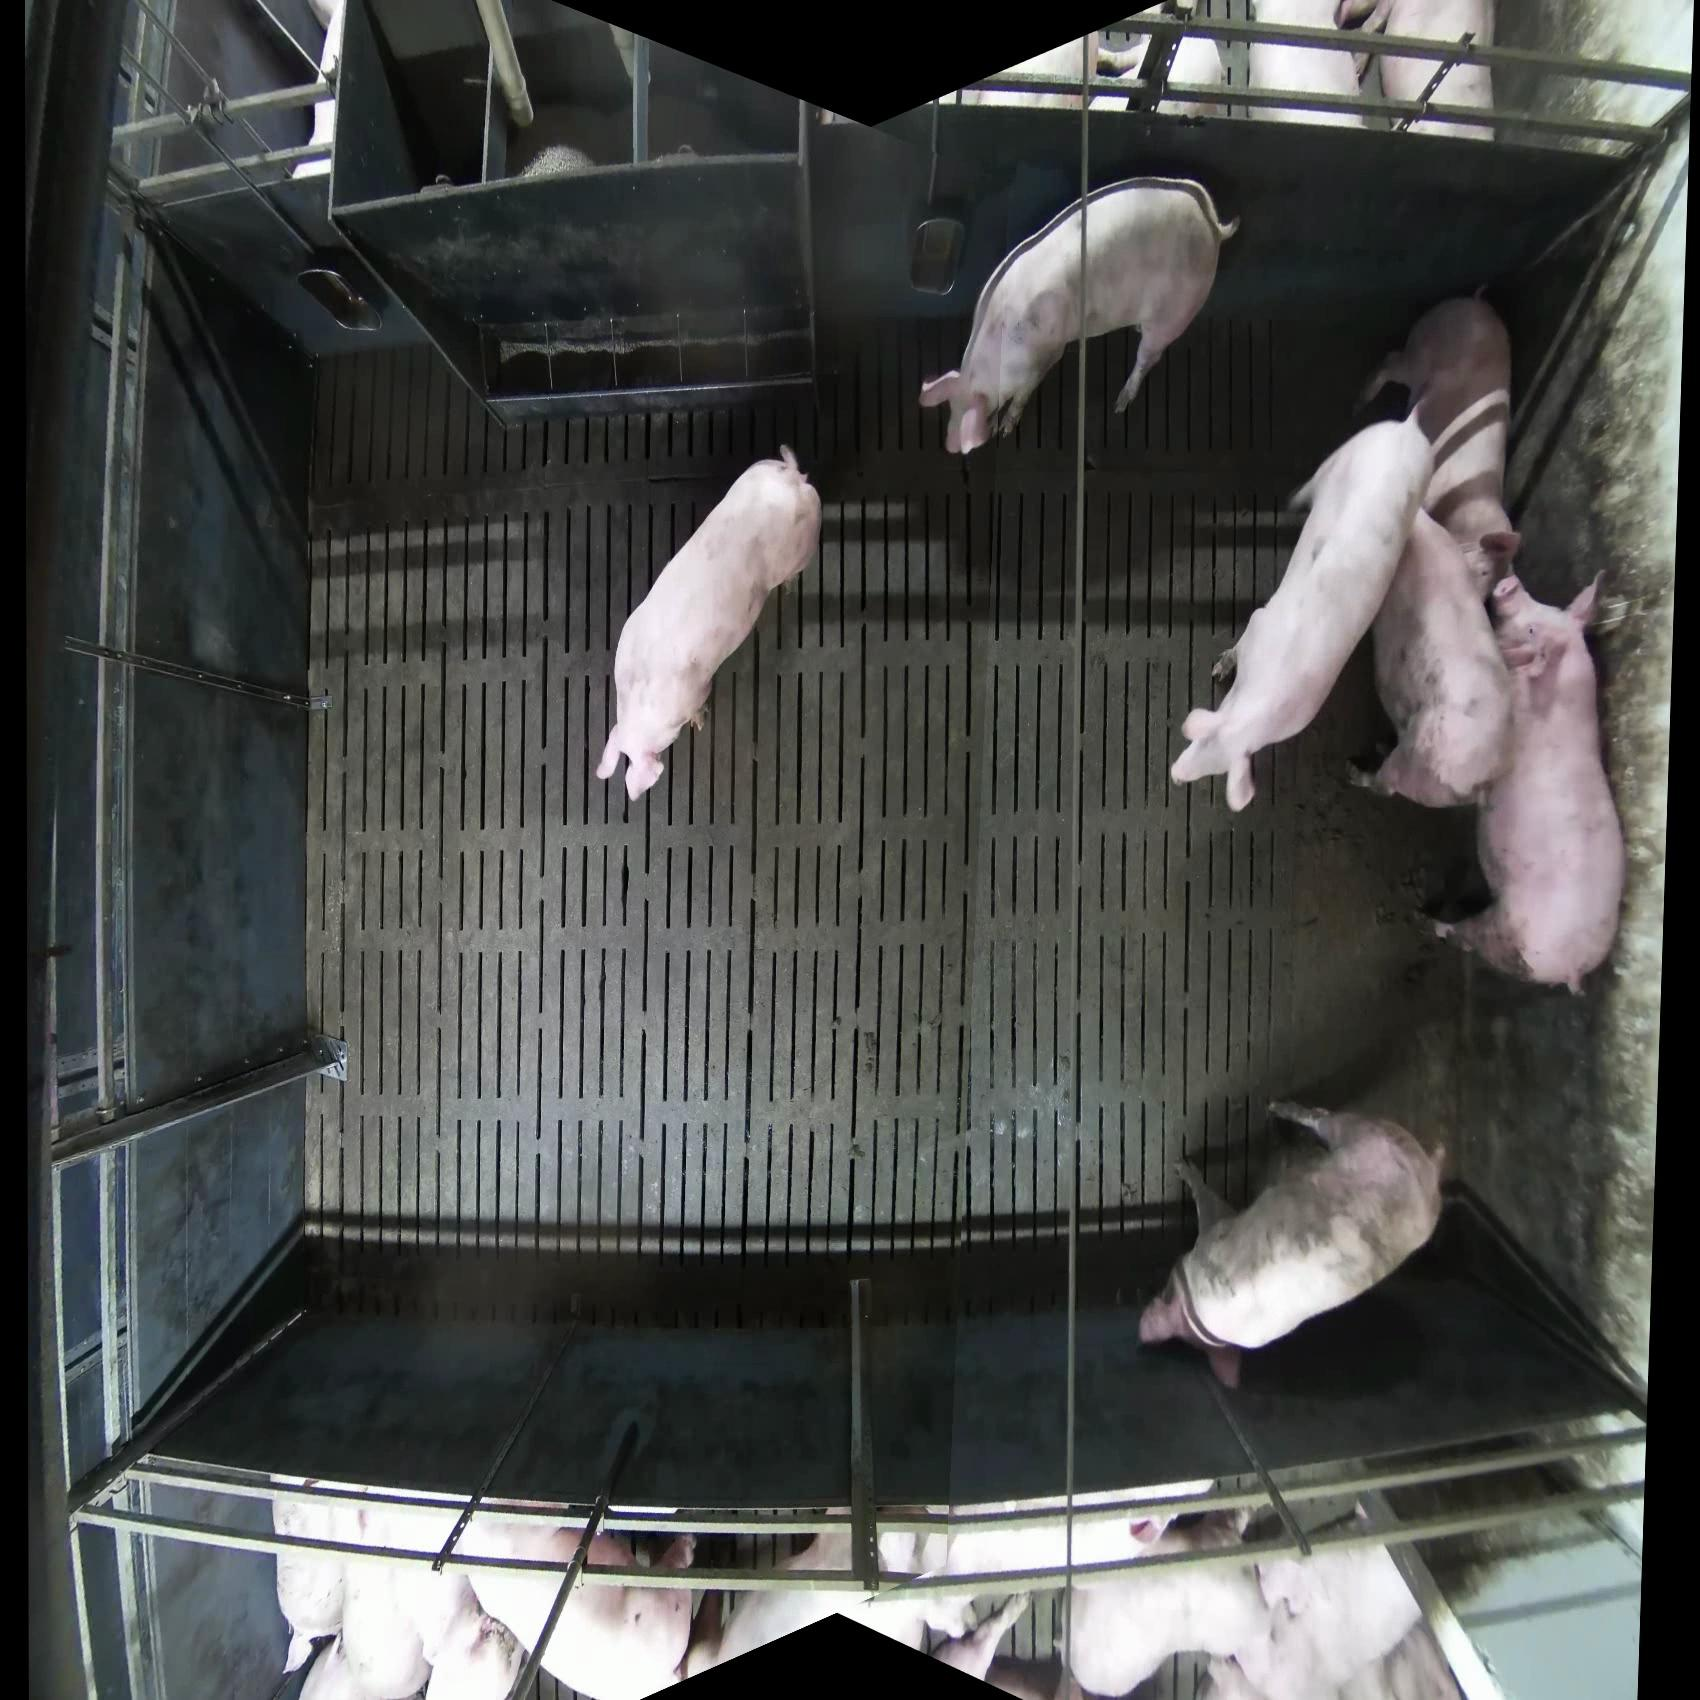pig: (1169, 392, 1435, 816), (918, 174, 1242, 458), (1136, 1098, 1448, 1390), (1428, 567, 1628, 998), (595, 442, 824, 803), (679, 1519, 1034, 1688), (271, 1491, 529, 1700), (1203, 1496, 1463, 1700), (1353, 501, 1523, 811), (1351, 293, 1523, 599), (447, 1510, 701, 1700), (1062, 1507, 1273, 1698), (676, 1529, 830, 1681), (1336, 2, 1498, 142), (1249, 2, 1381, 129), (918, 1593, 1034, 1681)
